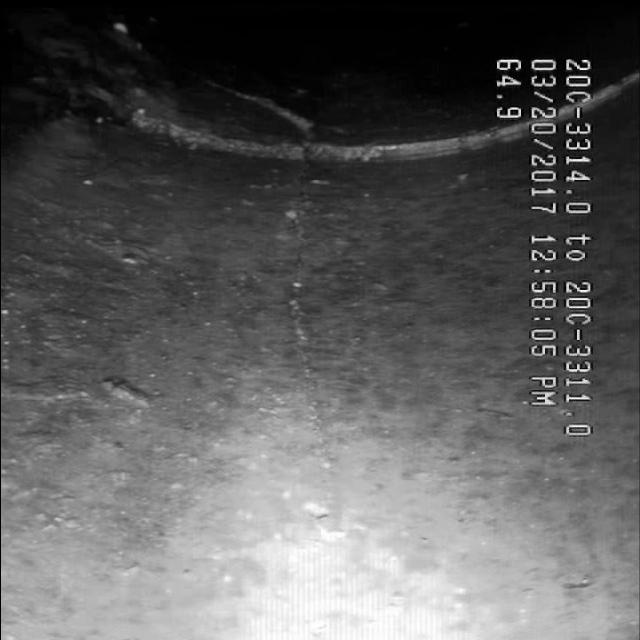Crack: (255, 188, 346, 480)
